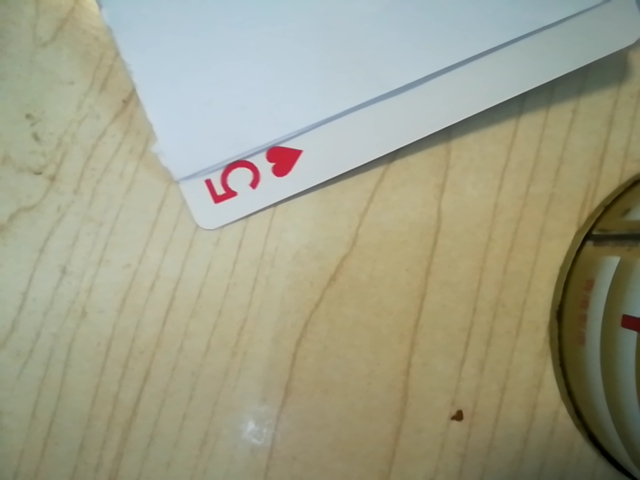hx 5: (196, 137, 305, 215)
